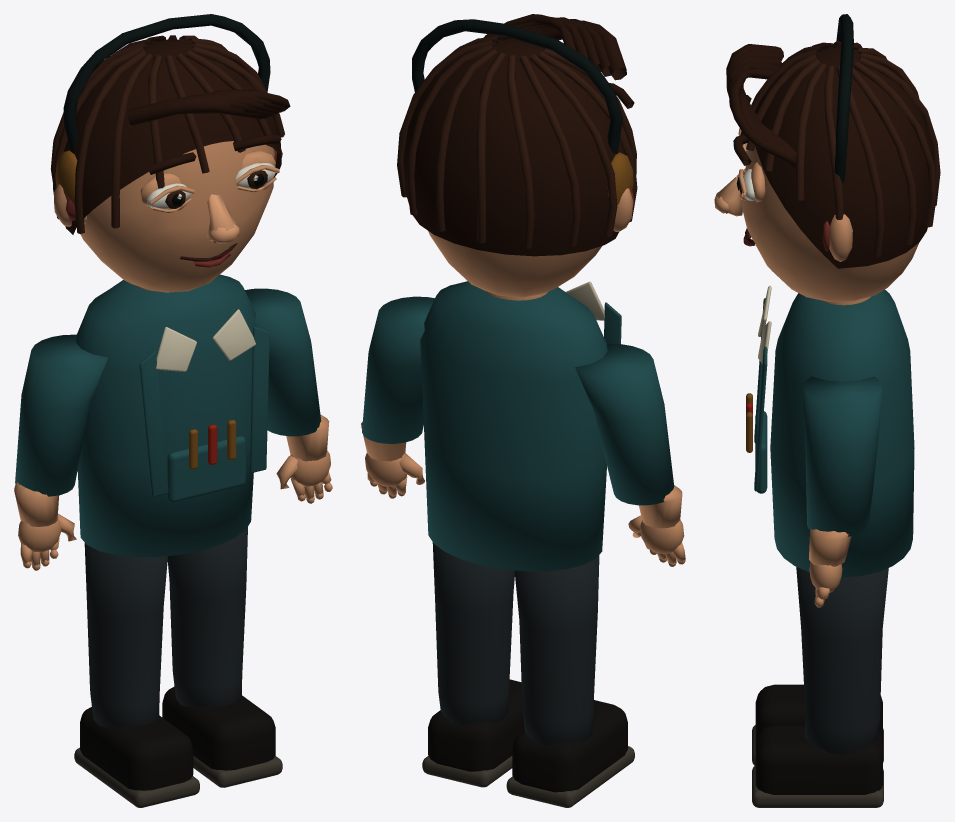
Rendered from technician-03.glb.
The picture shows the model from 3 angles, left to right: view 1: azimuth 30°, elevation 25°; view 2: azimuth 150°, elevation 25°; view 3: azimuth 270°, elevation 25°; orthographic projection. The views are drawn at different scales.
Parts seen in each view (by area): view 1: Head, Body, LegL, LegR, ArmL, ArmR; view 2: Head, Body, LegL, LegR, ArmL, ArmR; view 3: Head, Body, LegR, ArmR, LegL.
Boxes of the visible parts, x1,y1,x2,y2 form: Head: [50, 14, 290, 292]; Body: [76, 274, 269, 557]; LegL: [74, 543, 199, 807]; LegR: [162, 527, 282, 787]; ArmL: [14, 334, 107, 570]; ArmR: [245, 288, 332, 503]; Head: [397, 14, 637, 297]; Body: [420, 281, 621, 571]; LegL: [506, 555, 634, 807]; LegR: [422, 542, 524, 787]; ArmL: [575, 343, 685, 566]; ArmR: [361, 296, 434, 498]; Head: [714, 14, 940, 301]; Body: [746, 285, 914, 577]; LegR: [752, 567, 888, 807]; ArmR: [803, 376, 882, 607]; LegL: [752, 684, 883, 765].
Bounding box in the file's own units: 0.5949 × 1.35 × 0.3743.
